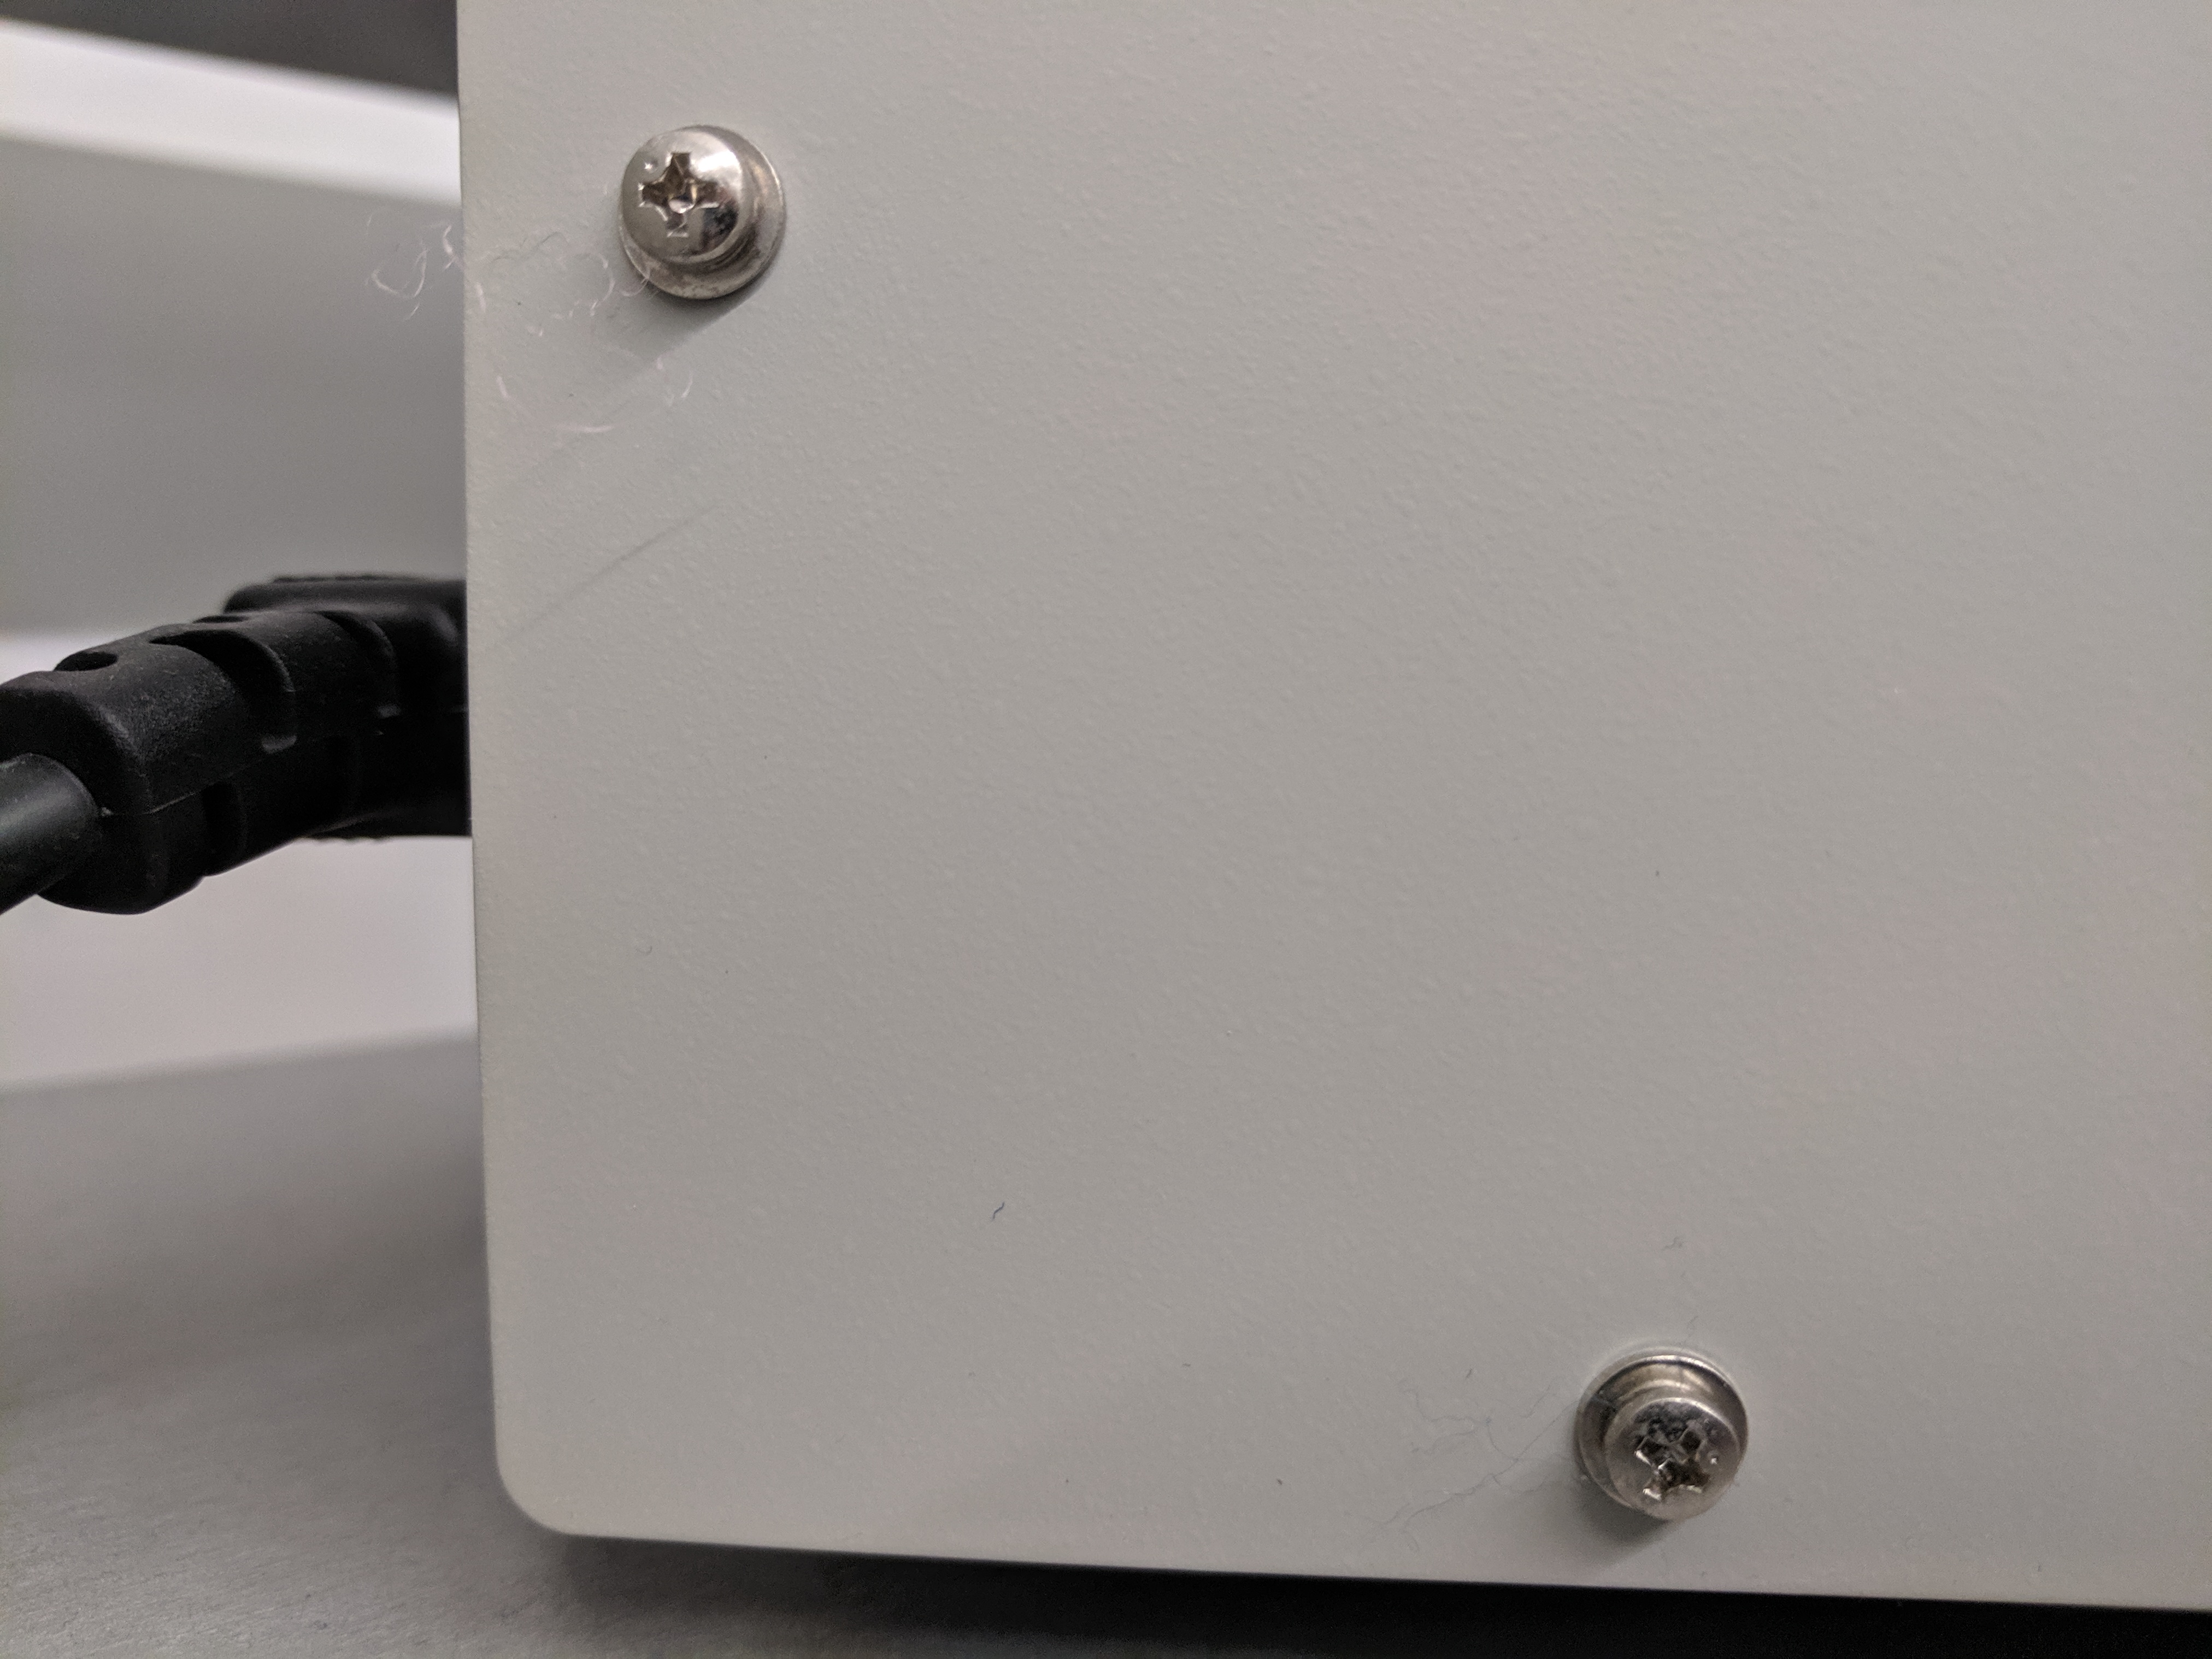cross_recessed_screw: (608, 124, 758, 261), (1599, 1382, 1740, 1520)
